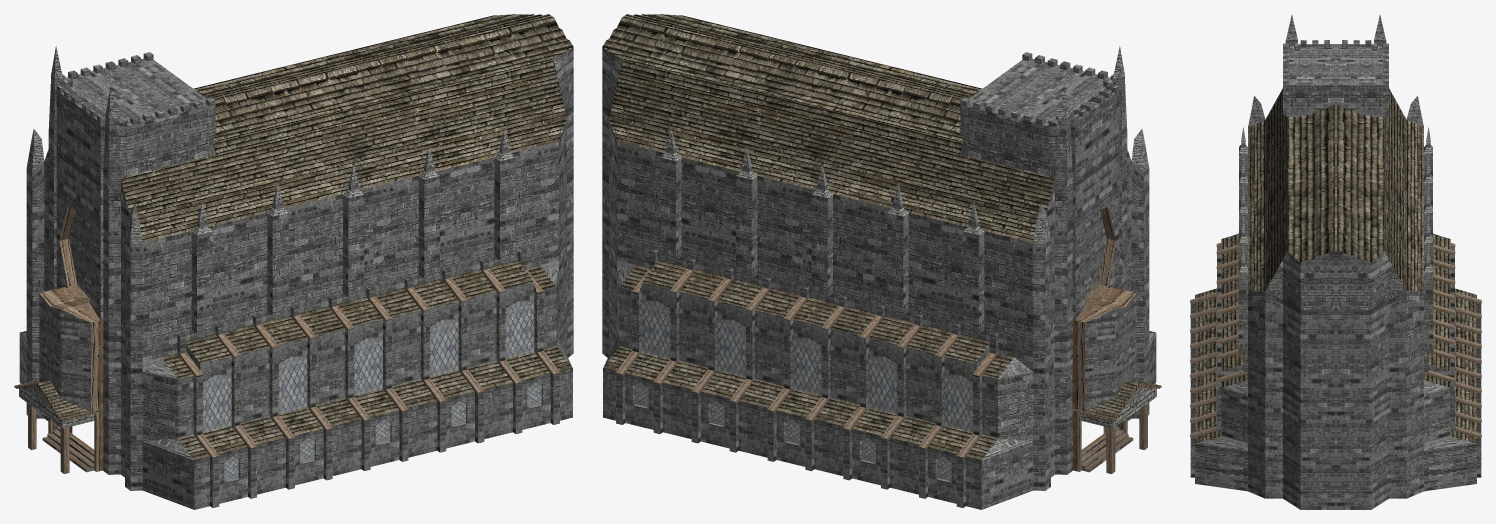
File: Church.fbx
3 renders of one model, left to right at view 1: azimuth 30°, elevation 25°; view 2: azimuth 150°, elevation 25°; view 3: azimuth 270°, elevation 25°, orthographic. The views are drawn at different scales.
Parts seen in each view (by area): view 1: Cathedral_1_Closed__1_1; view 2: Cathedral_1_Closed__1_1; view 3: Cathedral_1_Closed__1_1.
Part boxes in pixels (x1,y1,x2,y2): Cathedral_1_Closed__1_1: (14,14,573,509); Cathedral_1_Closed__1_1: (602,14,1161,509); Cathedral_1_Closed__1_1: (1190,14,1481,509).
Size of the model in its own units: 5425 by 3900 by 3309.
Materials: 1 (1 with a texture image).
